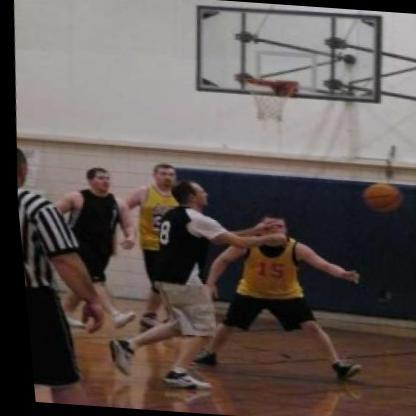basketball: (357, 180, 400, 215)
